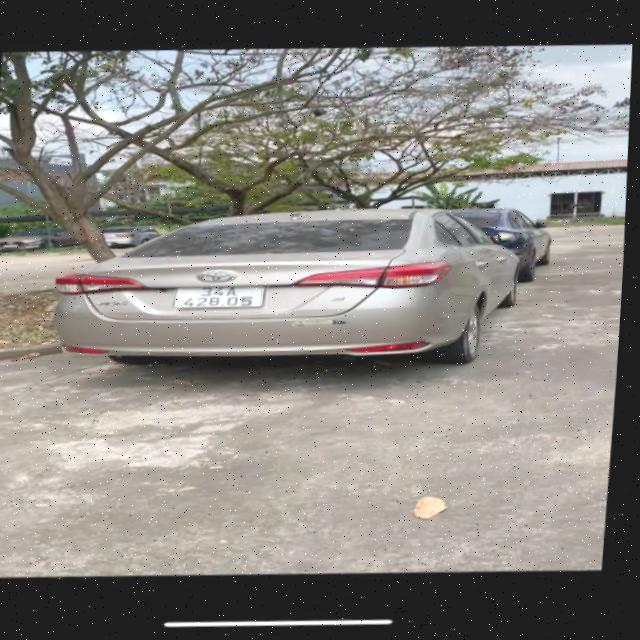car: (58, 193, 537, 391)
plate: (165, 274, 274, 321)
